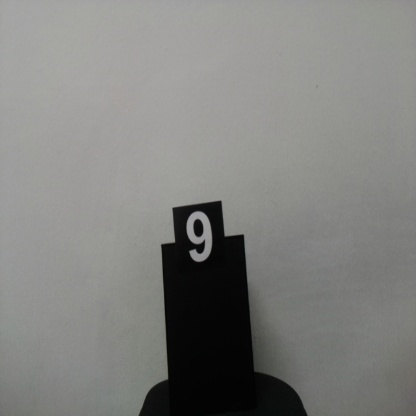id_9: (173, 209, 224, 281)
